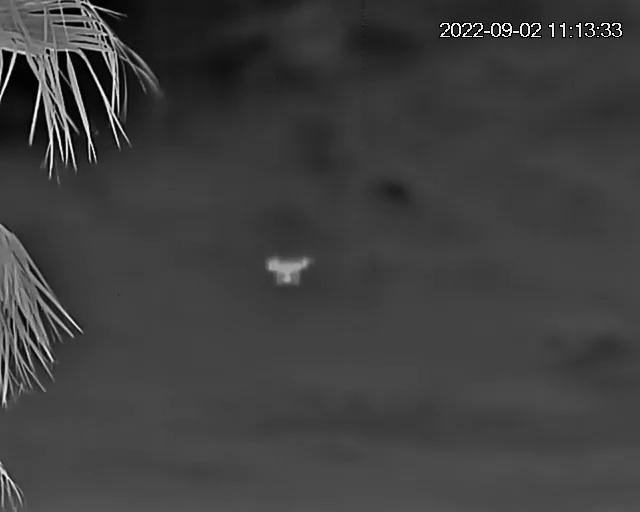DJI-Phantom: (267, 256, 314, 288)
